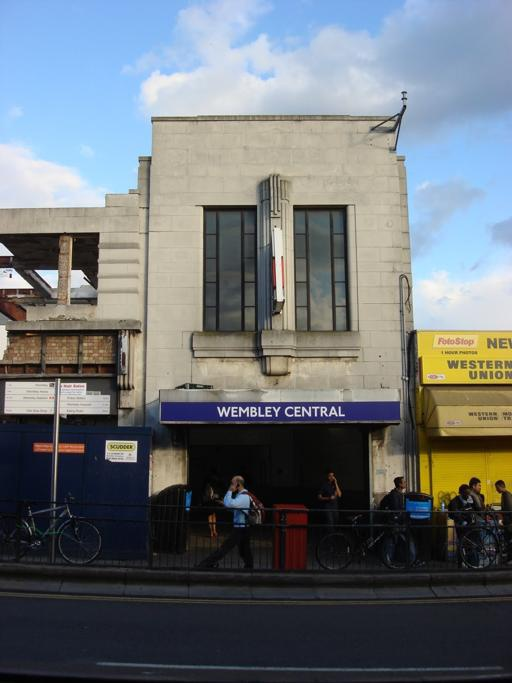non-vehicle: (0, 493, 101, 563), (315, 513, 414, 570), (457, 511, 511, 571)
